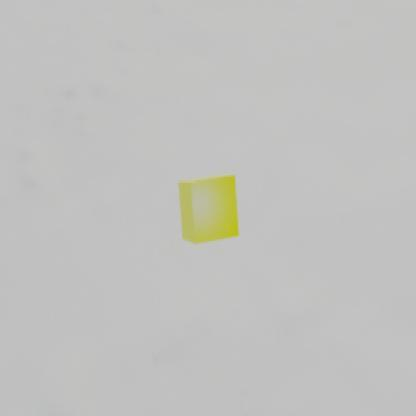cube: (176, 174, 240, 244)
